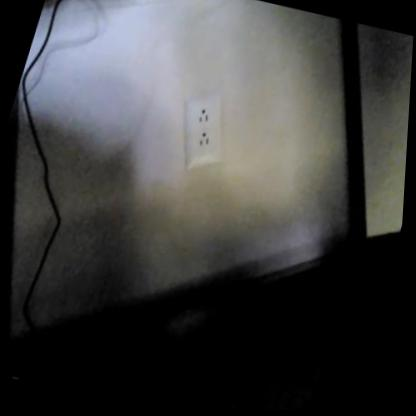OUTLET: (167, 85, 234, 178)
